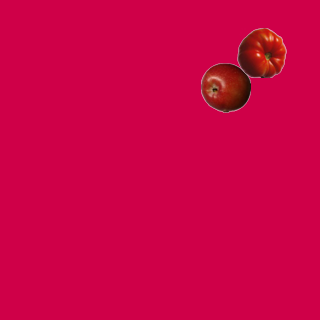Apple Braeburn: (200, 62, 250, 112)
Tomato 3: (236, 27, 286, 77)
